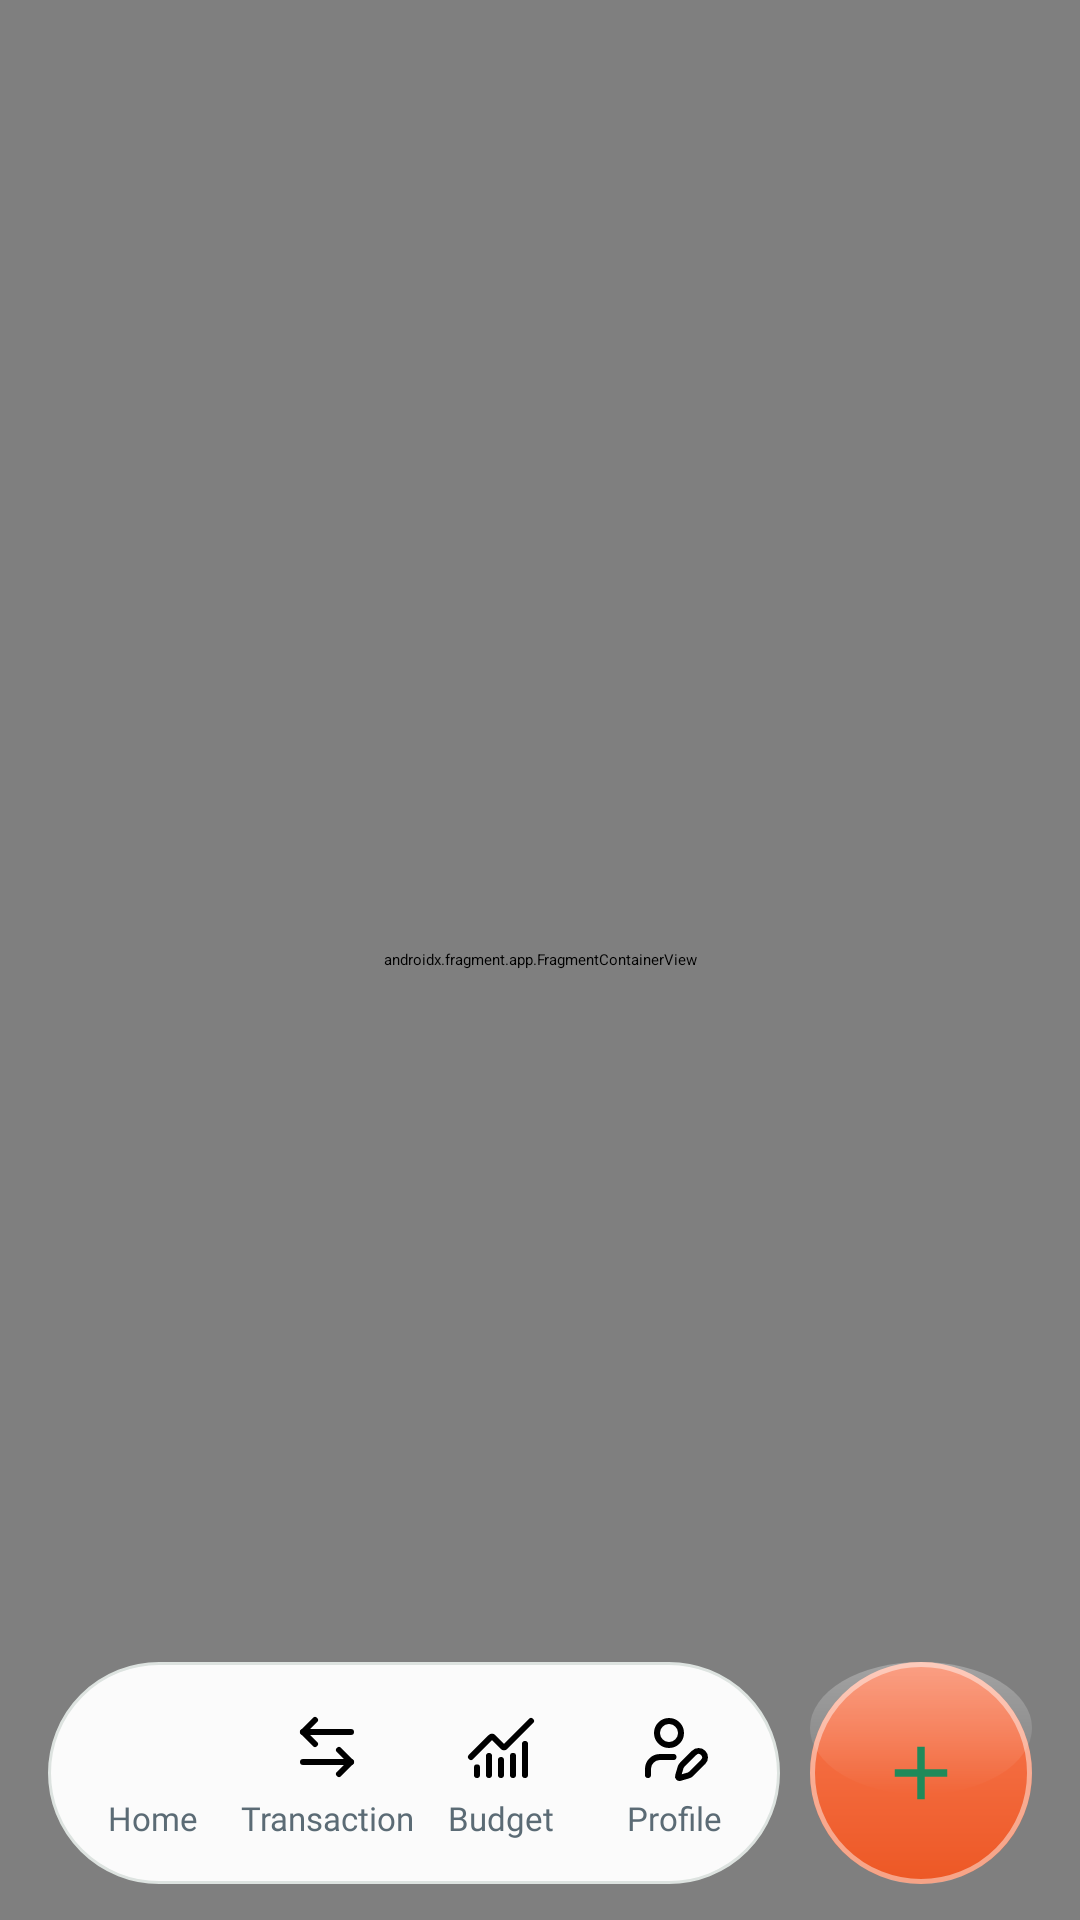

Screen size 1080×1920. Icon name, then its box in pixels as (left=x1, top=y1, right=x2, bottom=y2):
Add transaction: (left=810, top=1662, right=1032, bottom=1884)
statics: (left=468, top=1718, right=534, bottom=1778)
